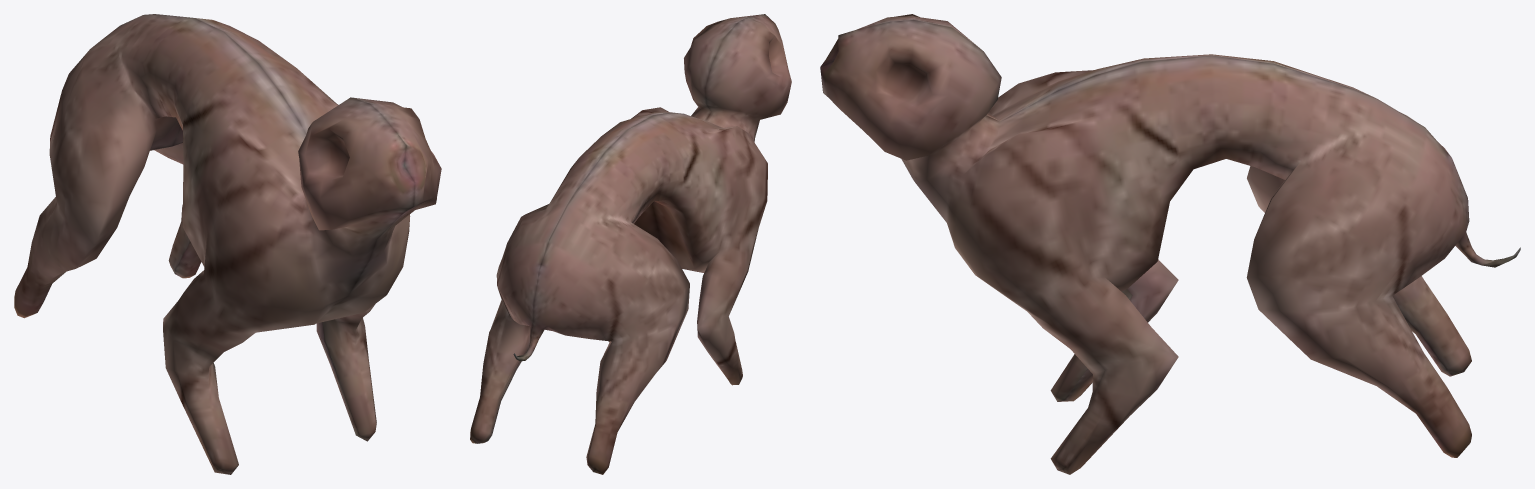
File: meat_rabbit_cooked.glb
The picture shows the model from 3 angles, left to right: view 1: azimuth 30°, elevation 25°; view 2: azimuth 150°, elevation 25°; view 3: azimuth 270°, elevation 25°; orthographic projection. The views are drawn at different scales.
Parts seen in each view (by area): view 1: meat_rabbit_LOD0; view 2: meat_rabbit_LOD0; view 3: meat_rabbit_LOD0.
Boxes of the visible parts, x1,y1,x2,y2 form: meat_rabbit_LOD0: (14,14,441,474); meat_rabbit_LOD0: (470,14,791,474); meat_rabbit_LOD0: (820,14,1520,474).
Size of the model in its own units: 0.3428 by 0.5996 by 0.9136.
Materials: 1 (1 with a texture image).
